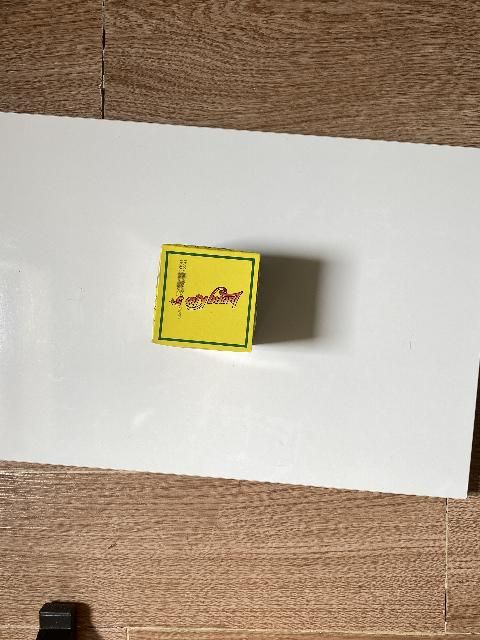luong_kho: (151, 244, 261, 353)
